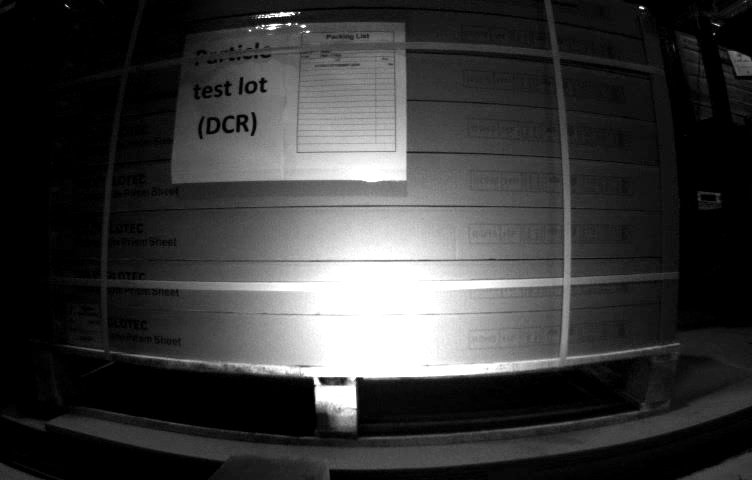True Barcode: (57, 301, 104, 347)
